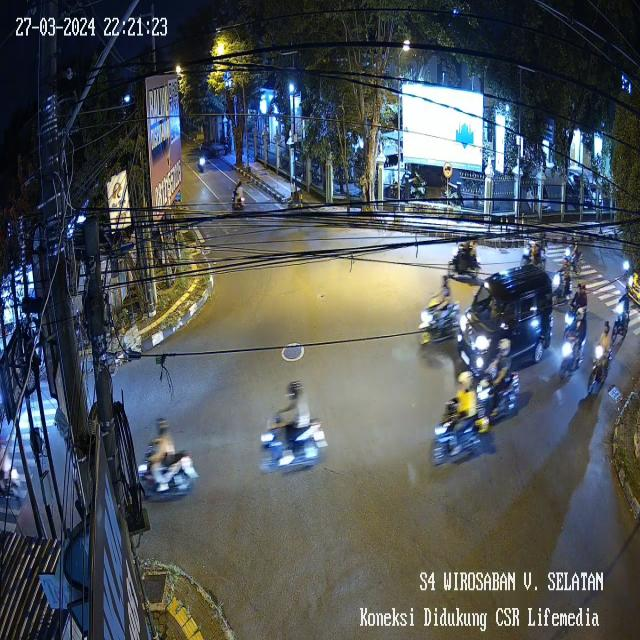car: (456, 265, 556, 380), (624, 266, 640, 313)
motorcycle: (426, 364, 493, 474), (255, 384, 330, 481), (132, 409, 200, 509), (414, 267, 464, 356), (584, 314, 613, 403), (445, 228, 484, 290), (559, 307, 585, 389), (519, 232, 552, 274), (562, 288, 590, 336), (547, 267, 572, 308), (226, 175, 250, 216), (612, 297, 631, 347), (564, 232, 583, 268), (617, 250, 634, 282), (196, 145, 206, 179)
